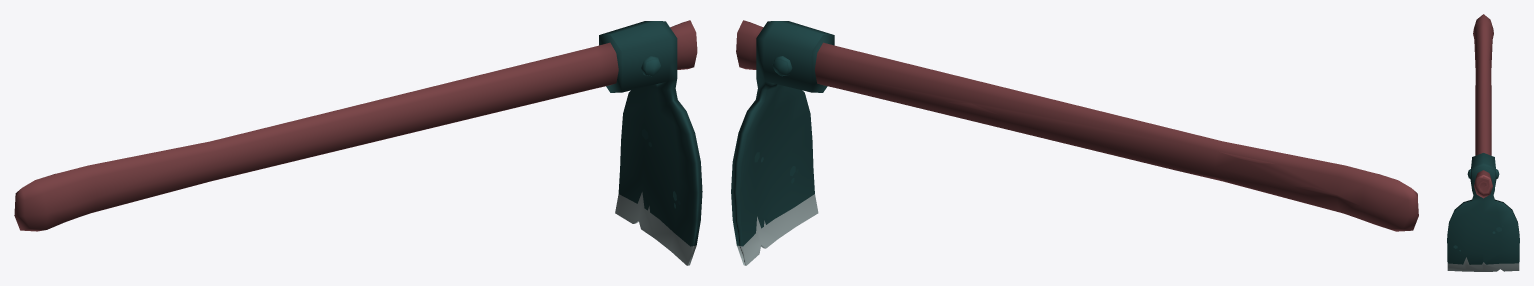
File: Tool_Hoe.fbx
The picture shows the model from 3 angles, left to right: view 1: azimuth 30°, elevation 25°; view 2: azimuth 150°, elevation 25°; view 3: azimuth 270°, elevation 25°; orthographic projection. The views are drawn at different scales.
Parts seen in each view (by area): view 1: Tool_Hoe; view 2: Tool_Hoe; view 3: Tool_Hoe.
Boxes of the visible parts, x1=… form: Tool_Hoe: x1=14, y1=20, x2=702, y2=265; Tool_Hoe: x1=731, y1=20, x2=1418, y2=265; Tool_Hoe: x1=1447, y1=14, x2=1519, y2=271.
Size of the model in its own units: 104 by 32.09 by 19.41.
